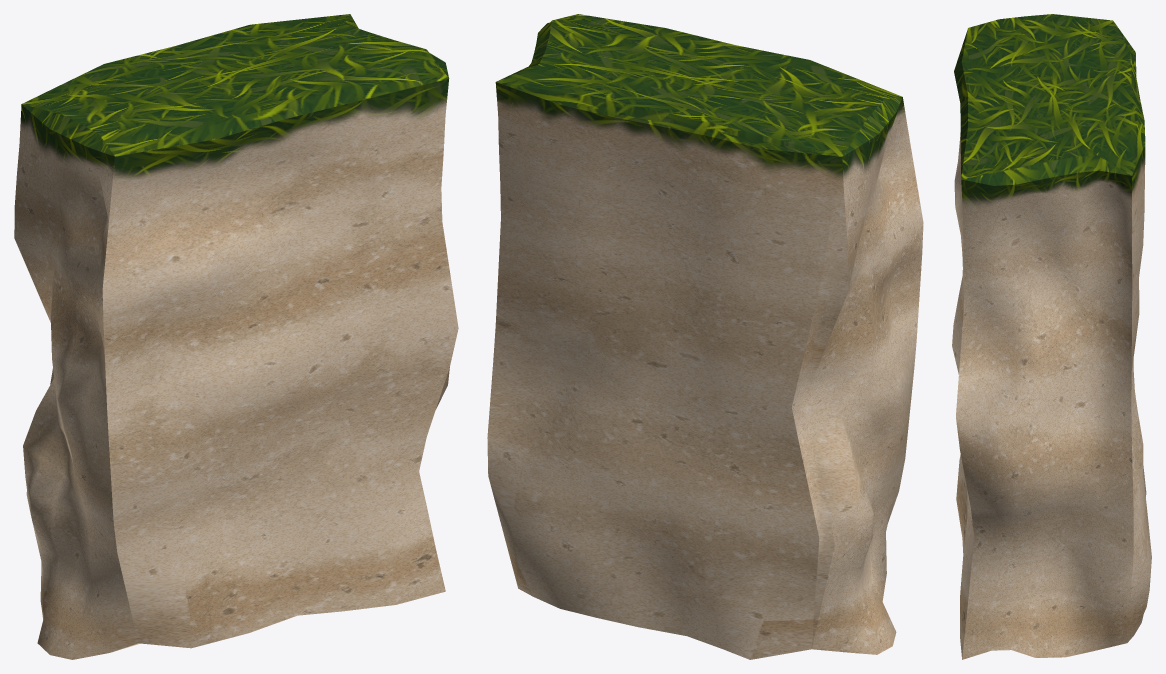
Rendered from Knight-TEX-plat 4.fbx.
3 views of the same model, side by side, from view 1: azimuth 30°, elevation 25°; view 2: azimuth 150°, elevation 25°; view 3: azimuth 270°, elevation 25° (orthographic). The views are drawn at different scales.
Visible parts, largest first — view 1: polySurface236; view 2: polySurface236; view 3: polySurface236.
Part boxes in pixels (x1,y1,x2,y2): polySurface236: (14, 14, 458, 659); polySurface236: (487, 14, 923, 659); polySurface236: (952, 14, 1151, 659).
Size of the model in its own units: 7.67 by 10.49 by 3.76.
Materials: 1 (1 with a texture image).
